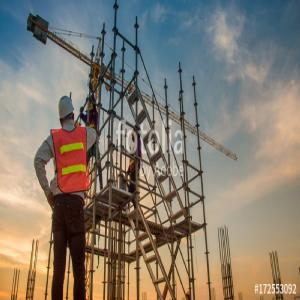white: (59, 97, 75, 129)
yellow: (87, 103, 94, 118)
